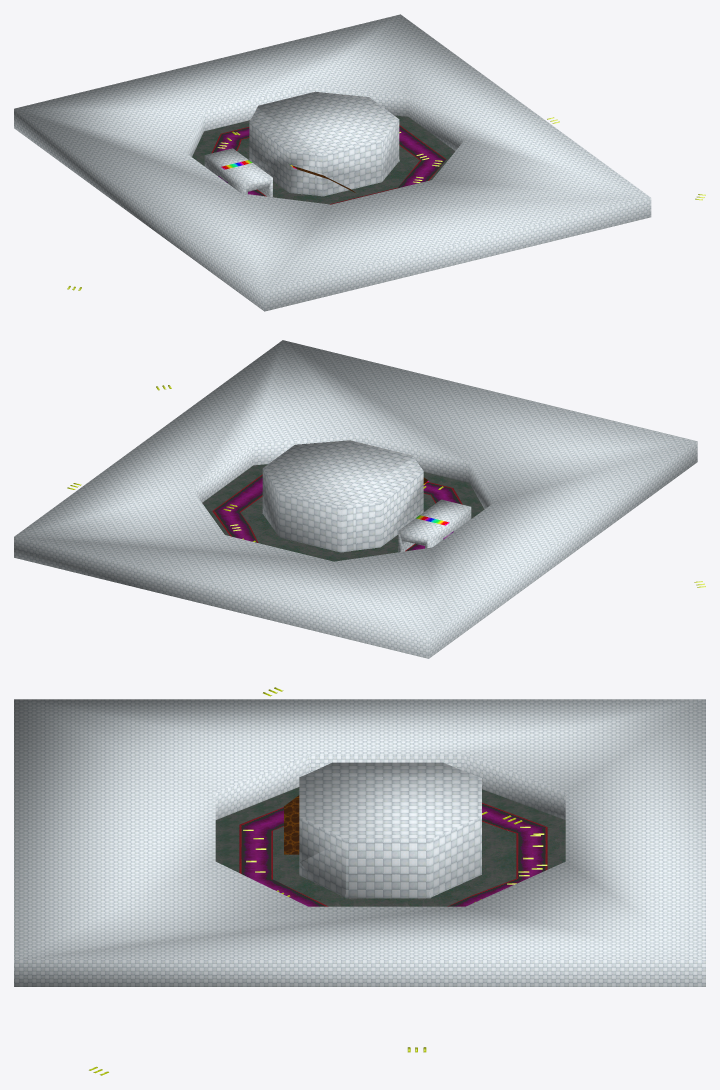
3 renders of one model, top to bottom at view 1: azimuth 30°, elevation 25°; view 2: azimuth 150°, elevation 25°; view 3: azimuth 270°, elevation 25°, orthographic. The views are drawn at different scales.
Parts seen in each view (by area): view 1: Octogon-SKP--mat25.001, Octogon-SKP--mat23.001, Octogon-SKP--mat26.001; view 2: Octogon-SKP--mat25.001, Octogon-SKP--mat23.001, Octogon-SKP--mat26.001; view 3: Octogon-SKP--mat25.001, Octogon-SKP--mat23.001, Octogon-SKP--mat26.001, Octogon-SKP--mat29.001, Octogon-SKP--mat22.001.
Part boxes in pixels (<box>): Octogon-SKP--mat25.001: <box>14,14,651,311</box>; Octogon-SKP--mat23.001: <box>192,115,455,204</box>; Octogon-SKP--mat26.001: <box>211,125,446,204</box>; Octogon-SKP--mat25.001: <box>14,340,697,658</box>; Octogon-SKP--mat23.001: <box>202,464,484,561</box>; Octogon-SKP--mat26.001: <box>212,474,462,551</box>; Octogon-SKP--mat25.001: <box>14,699,705,986</box>; Octogon-SKP--mat23.001: <box>215,787,565,906</box>; Octogon-SKP--mat26.001: <box>239,803,547,906</box>; Octogon-SKP--mat29.001: <box>284,795,299,854</box>; Octogon-SKP--mat22.001: <box>89,687,547,1075</box>.
Bounding box in the file's own units: 106990 × 11400 × 80619.
10 materials, 9 textured.
